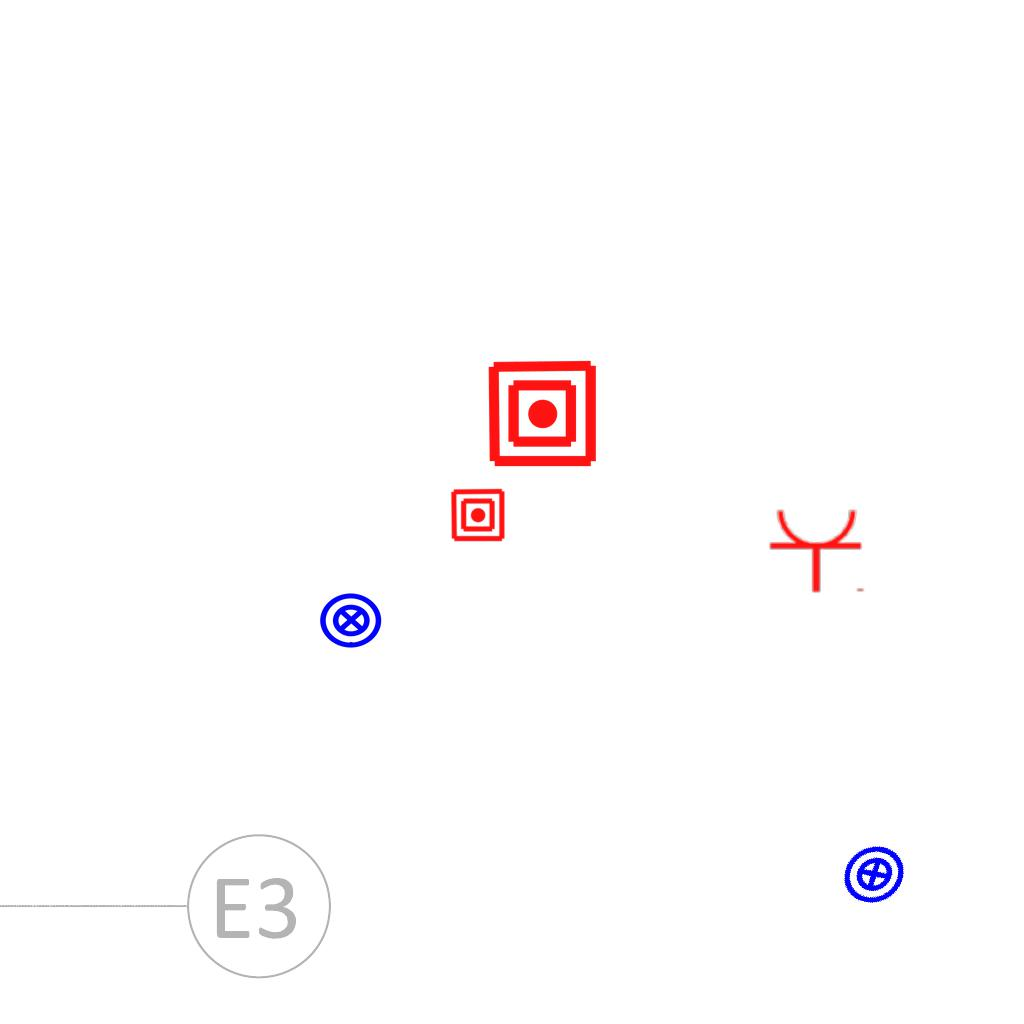NAM-Nichtautomatischer_Melder: (486, 357, 599, 470), (450, 487, 506, 543)
Schukosteckdose_einfach: (768, 507, 868, 594)
Taster_beleuchtet: (828, 828, 920, 920), (318, 587, 384, 653)
